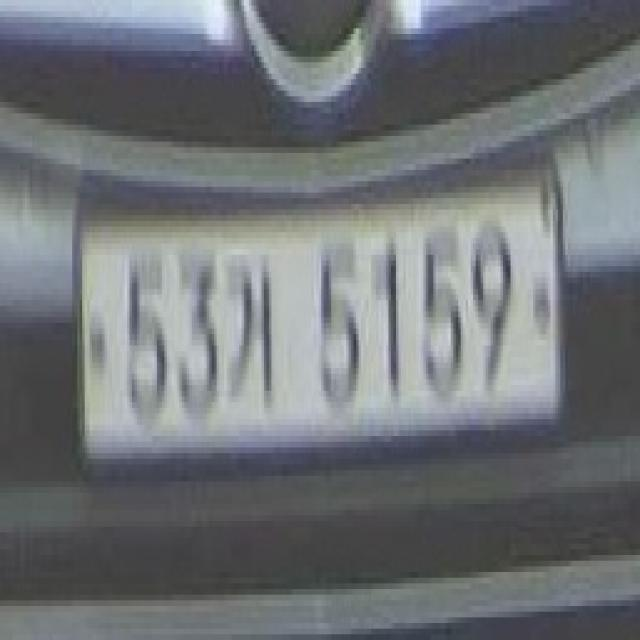1: (371, 227, 421, 419)
3: (177, 244, 229, 431)
5: (117, 221, 169, 425), (314, 238, 368, 413), (413, 227, 466, 402)
9: (471, 221, 523, 402)
geo: (222, 250, 284, 413)
license_plate: (62, 142, 573, 492)
